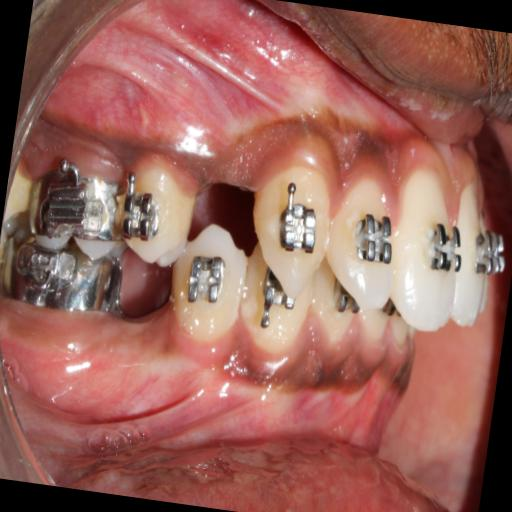correct_brace: (111, 162, 200, 274), (352, 206, 400, 274), (425, 214, 466, 291), (273, 200, 324, 260)
incorrect_brace: (316, 172, 410, 329), (117, 188, 164, 248)
